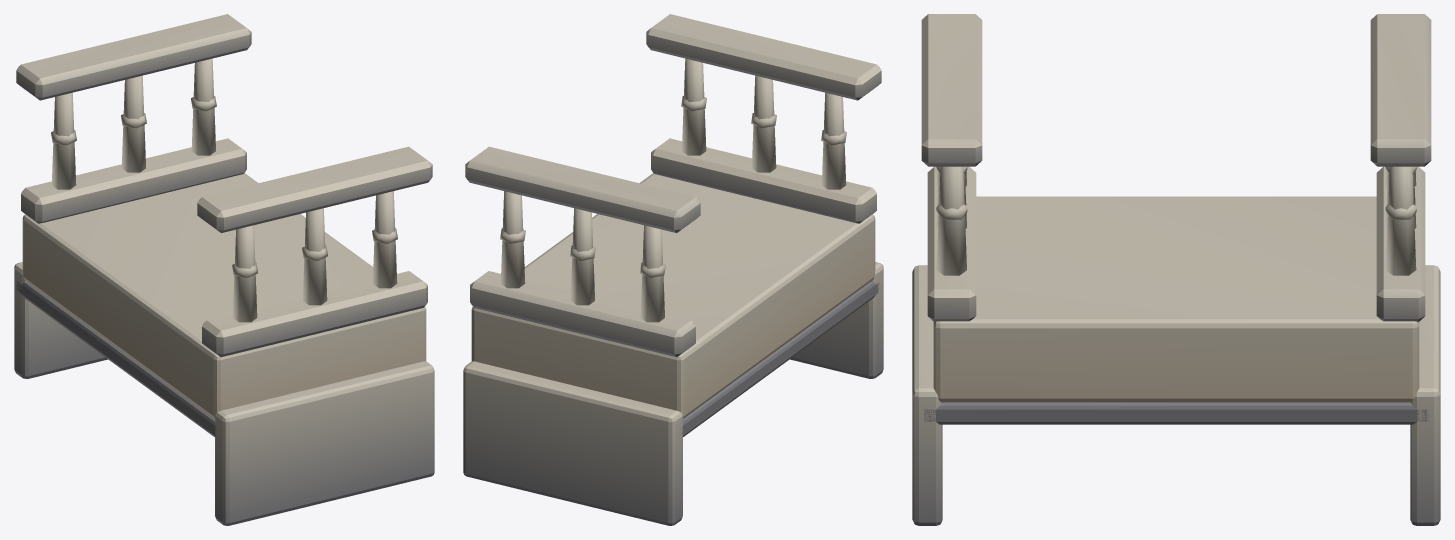
File: bridge_plank.glb
3 views of the same model, side by side, from view 1: azimuth 30°, elevation 25°; view 2: azimuth 150°, elevation 25°; view 3: azimuth 270°, elevation 25° (orthographic). The views are drawn at different scales.
Parts seen in each view (by area): view 1: Bridge; view 2: Bridge; view 3: Bridge.
Boxes of the visible parts, <box> form: Bridge: <box>14,14,434,525</box>; Bridge: <box>463,14,883,525</box>; Bridge: <box>912,14,1440,525</box>.
Size of the model in its own units: 1.02 by 1.41 by 1.74.
